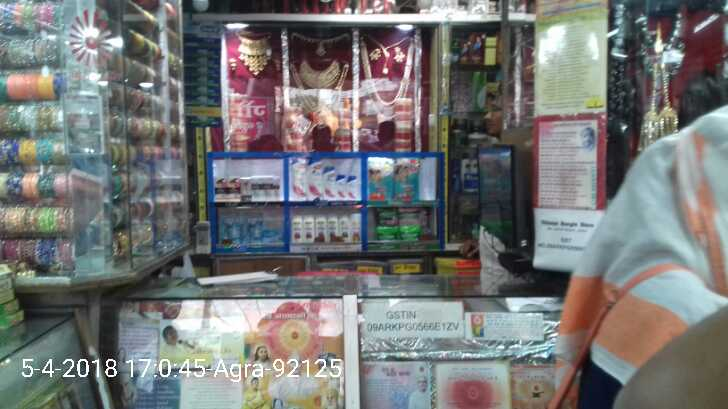venus: (222, 212, 243, 243), (244, 213, 264, 242), (265, 230, 281, 242)
